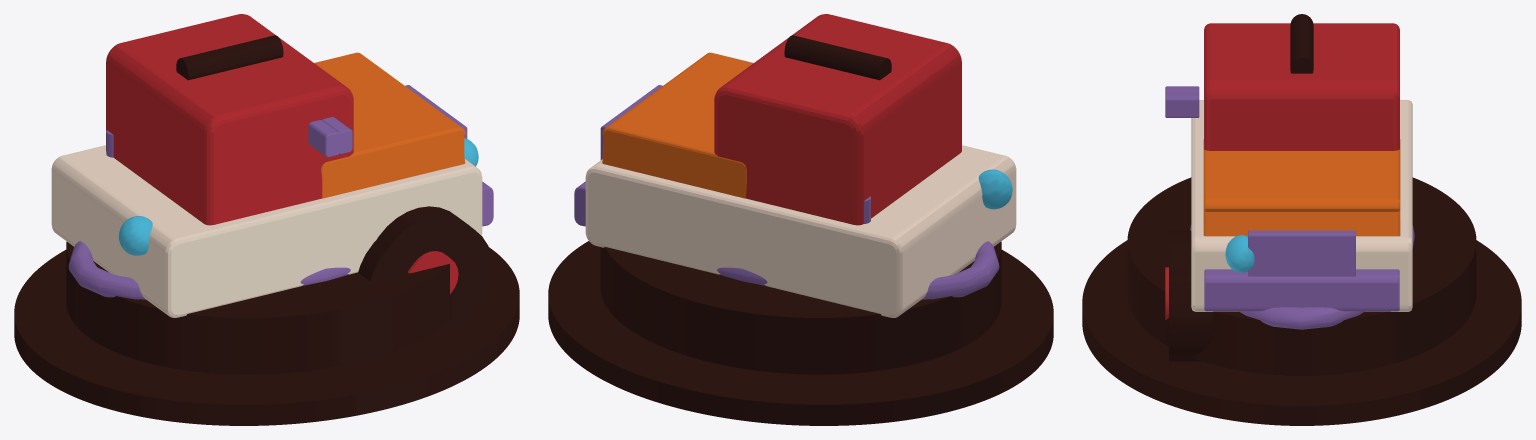
File: 0447_机械图鉴_蒸汽火车.glb
The picture shows the model from 3 angles, left to right: view 1: azimuth 30°, elevation 25°; view 2: azimuth 150°, elevation 25°; view 3: azimuth 270°, elevation 25°; orthographic projection. The views are drawn at different scales.
Parts seen in each view (by area): view 1: card_0447; view 2: card_0447; view 3: card_0447.
Part boxes in pixels (x1,y1,x2,y2): card_0447: [14, 14, 519, 425]; card_0447: [548, 14, 1053, 425]; card_0447: [1082, 14, 1521, 425].
Size of the model in its own units: 1.64 by 1 by 1.48.
